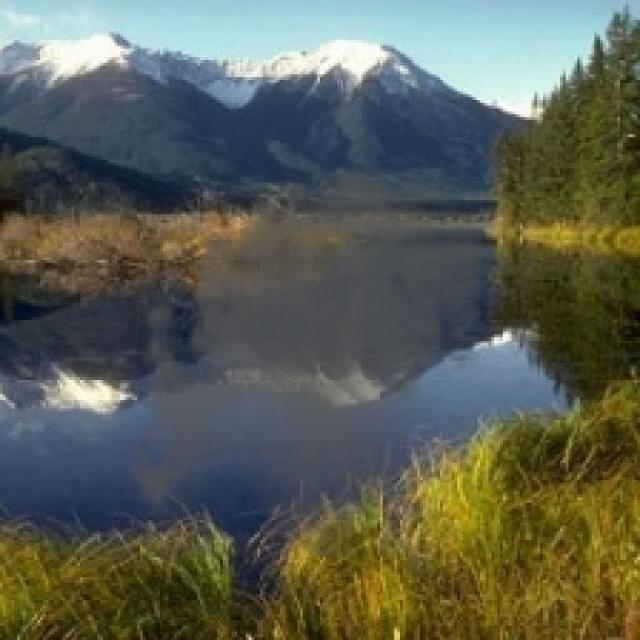smoke: (117, 140, 494, 557)
